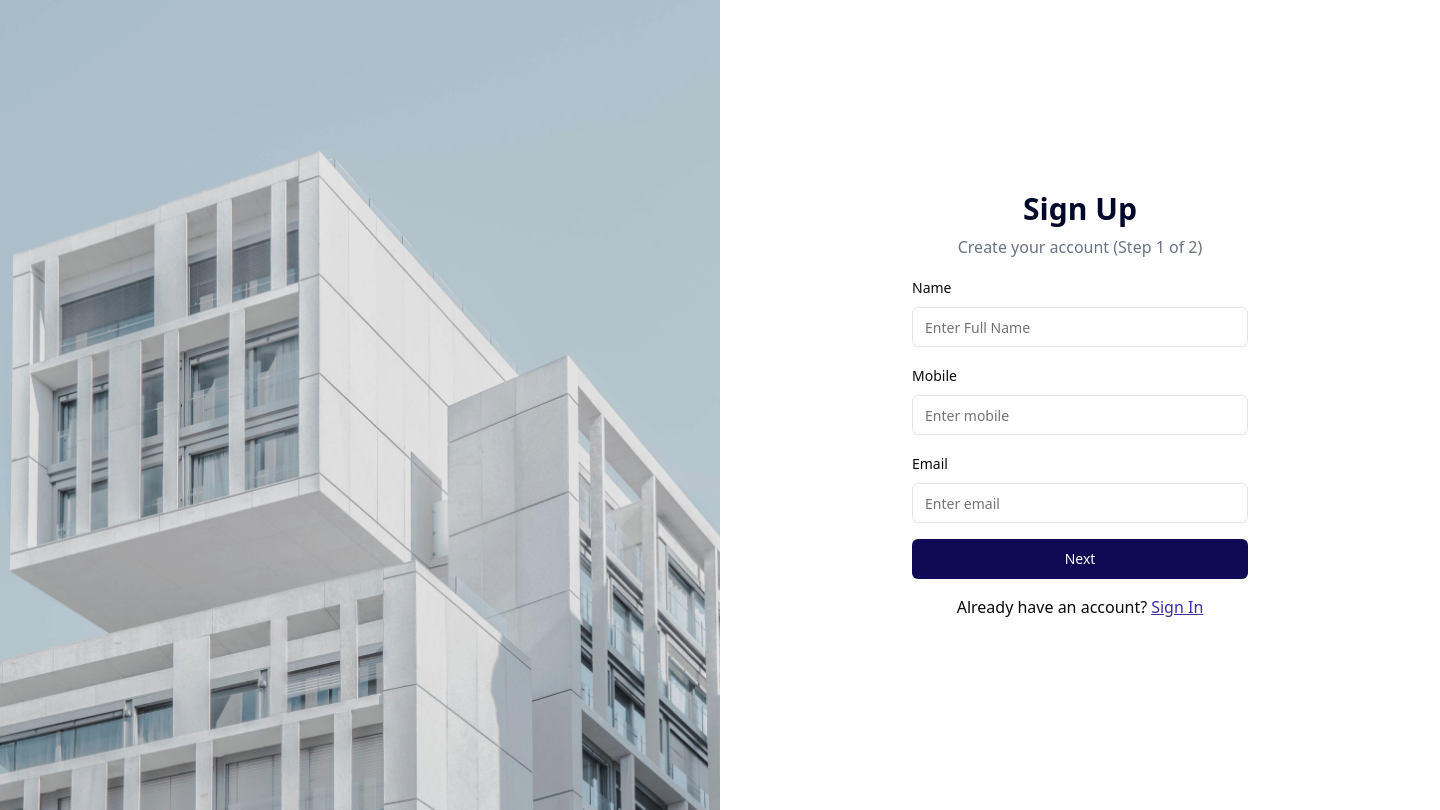
Test case: SignUp component › Displays error messages when next is being clicked without filling the form
Step 1. Click the button "Next" → (1080, 559), box [912,539,1248,579]
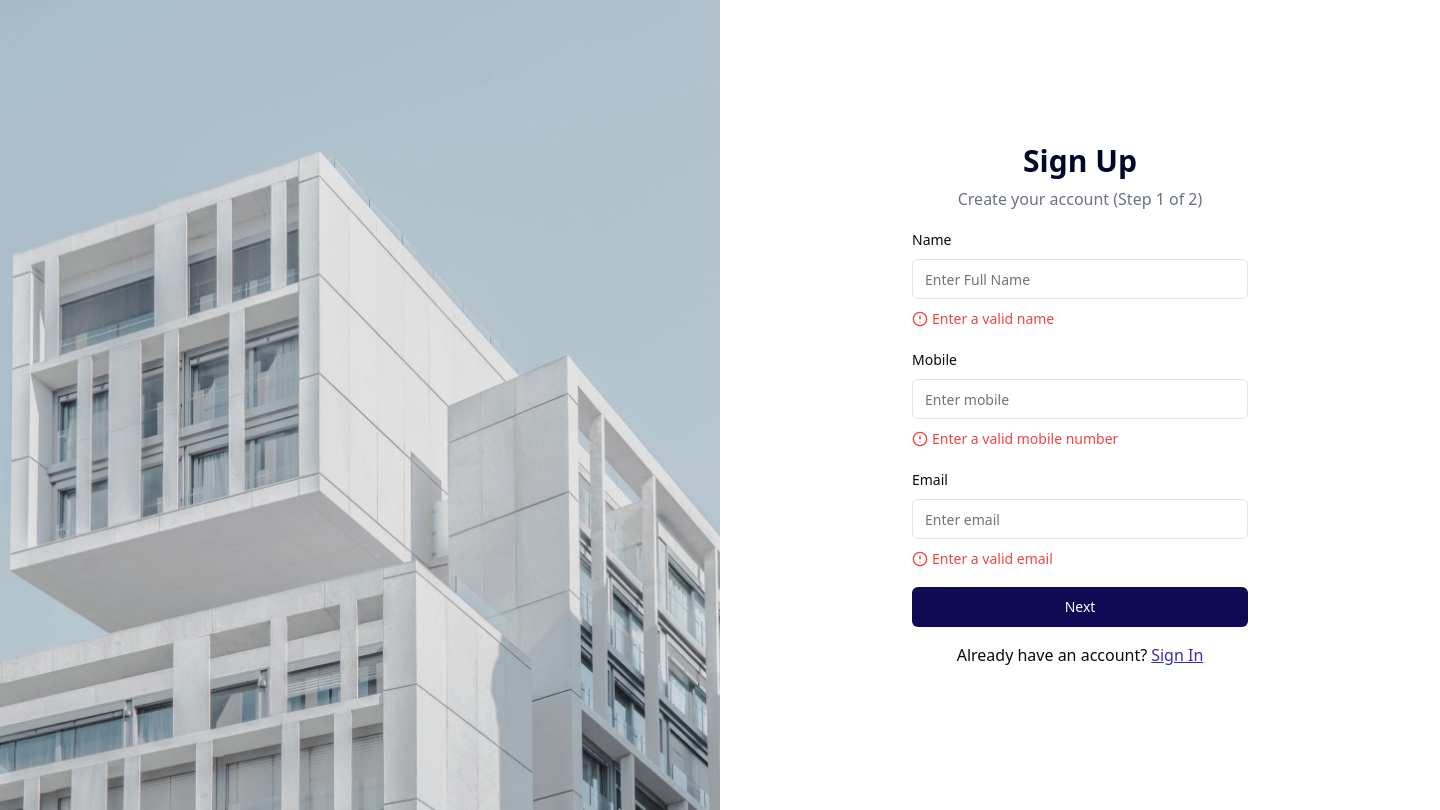
Expected: the text "Enter a valid name" is shown, [912,309,1054,328]
Expected: the text "Enter a valid mobile number" is shown, [912,429,1118,448]
Expected: the text "Enter a valid email" is shown, [912,549,1053,568]
